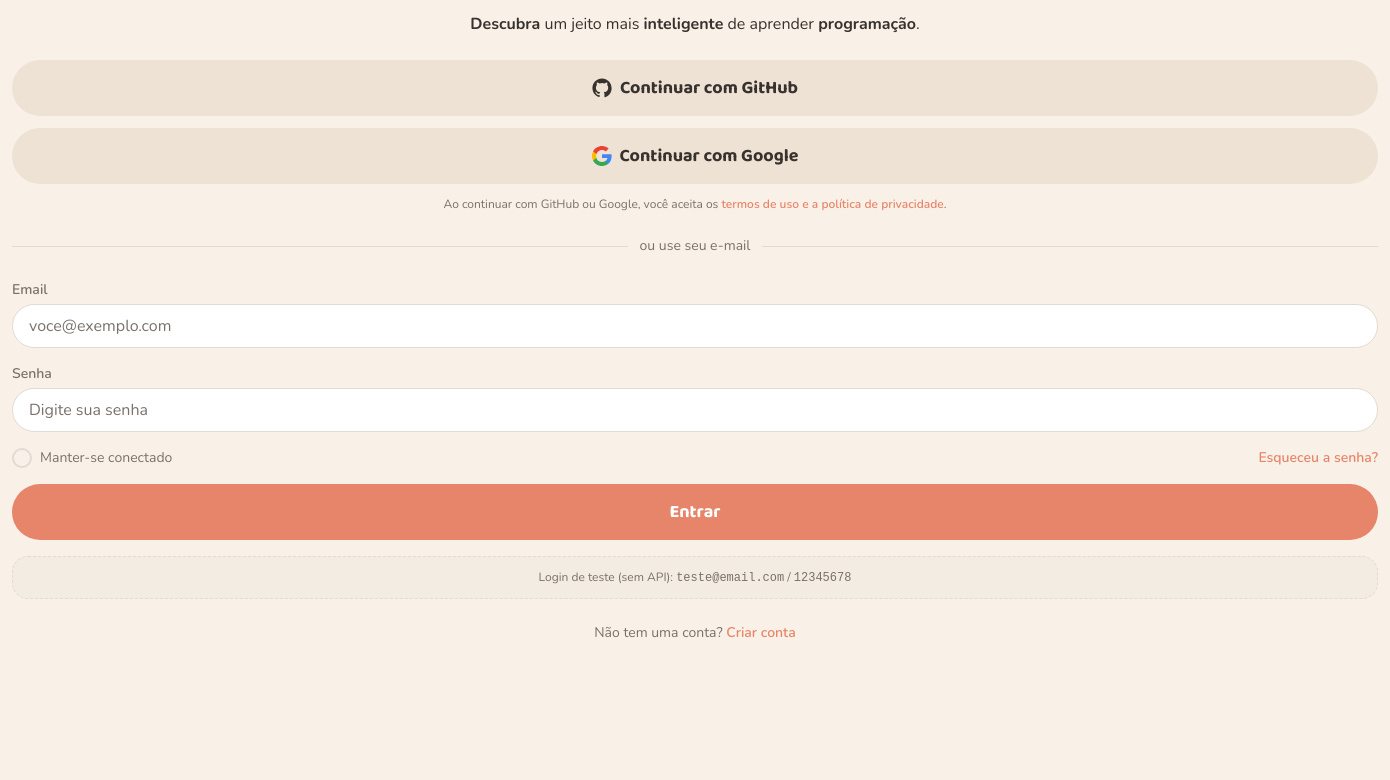
Scenario: envio › mostra a mensagem que a API devolveu
Type "ana@ufrpe.br" into the field labelled "Email". click: (695, 326)
box: [12,304,1378,348]
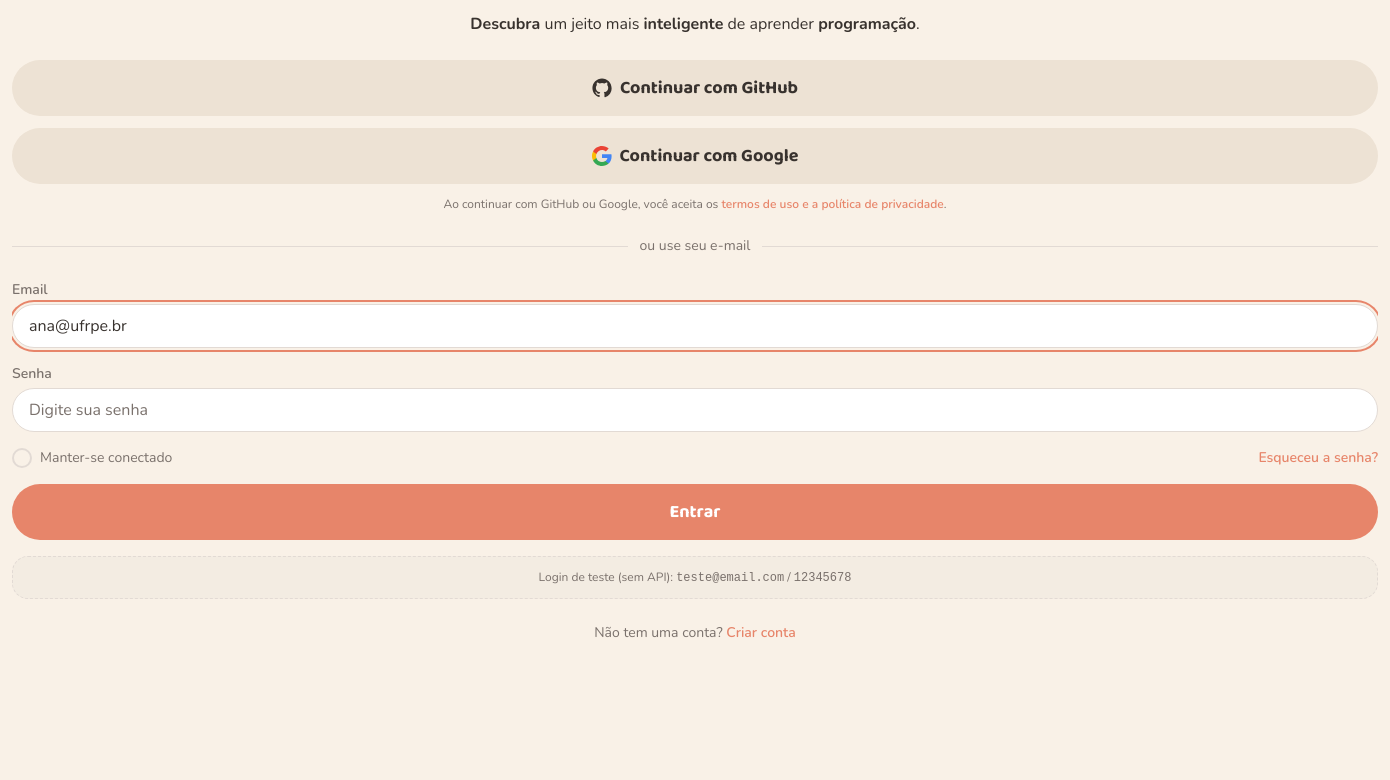
Type "Trilha-Boa-2026" into the password field labelled "Senha". click: (695, 410)
box: [12,388,1378,432]
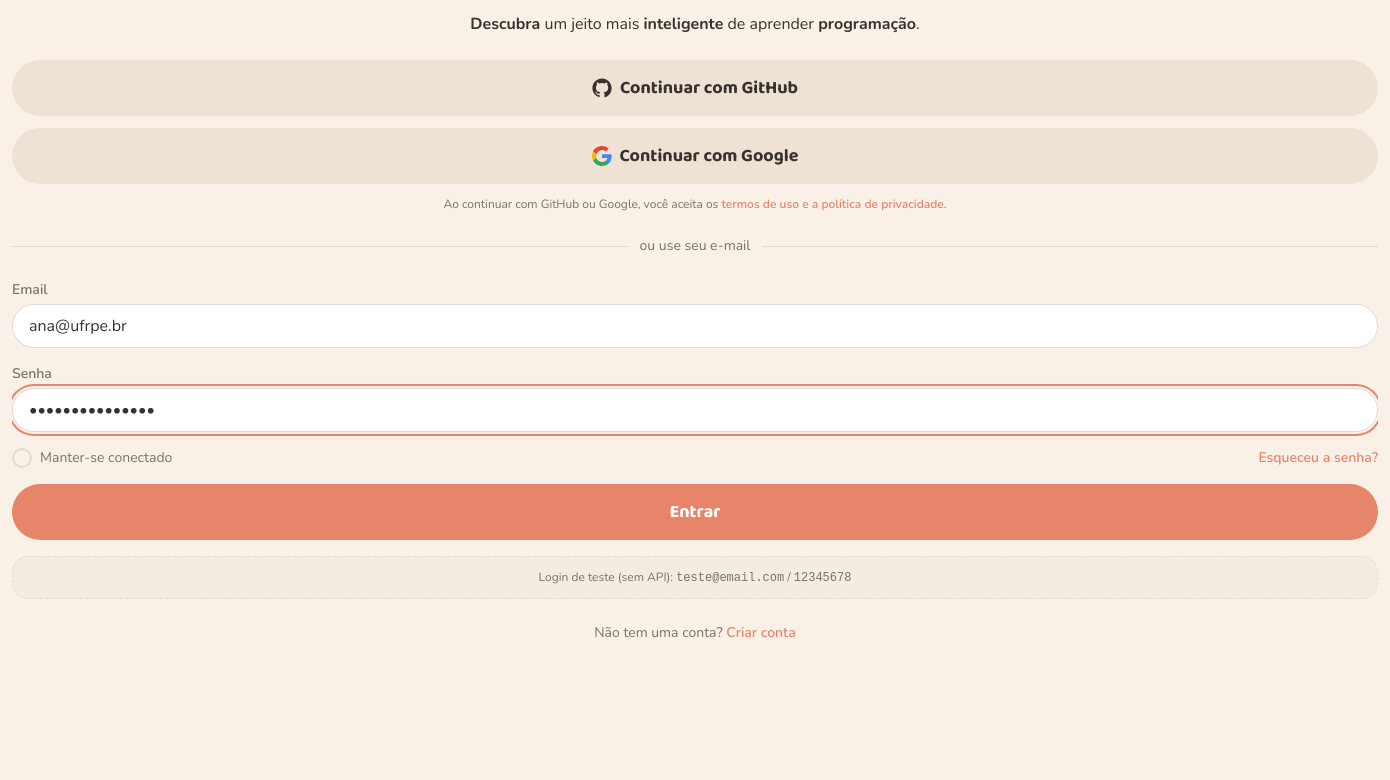
Click the button "Entrar". click: (695, 512)
box: [12,484,1378,540]
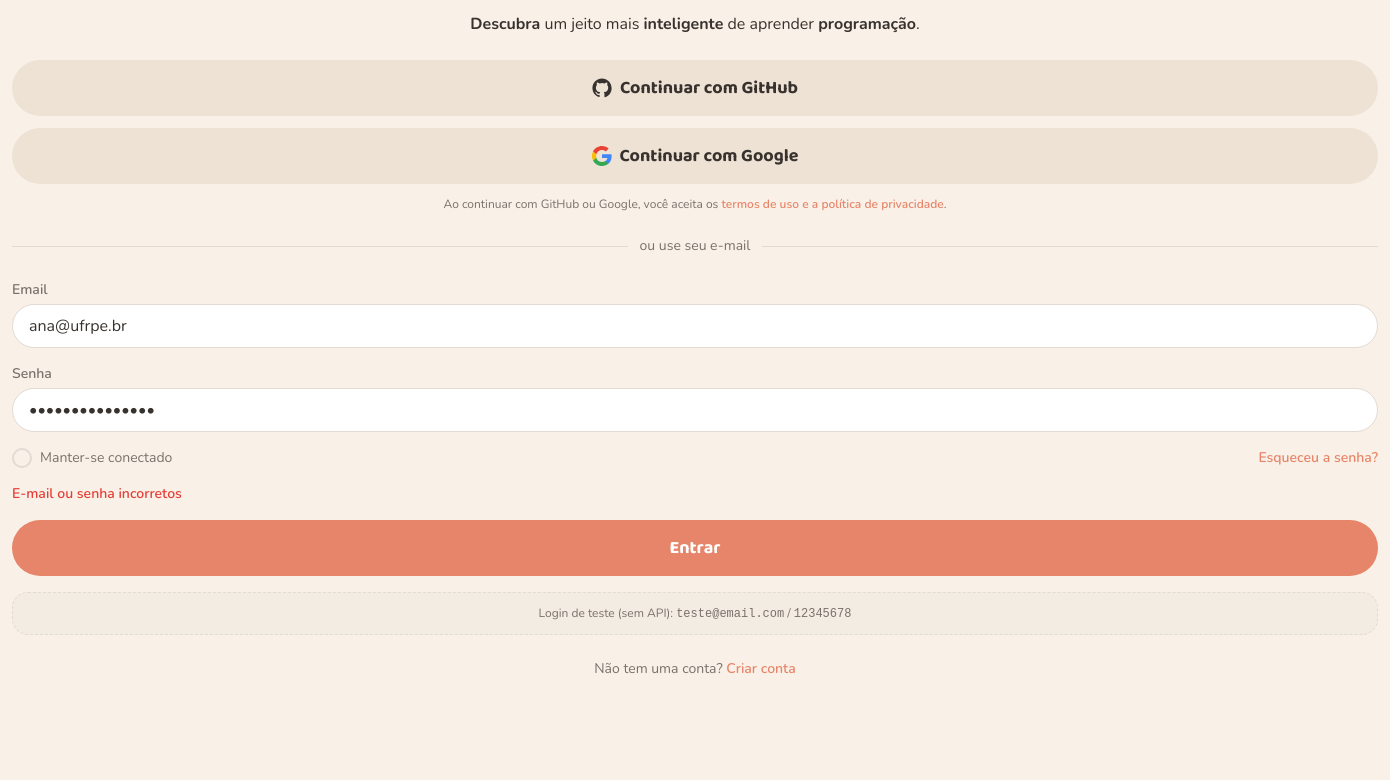
Result: the message reads "E-mail ou senha incorretos" at [12,484,182,503]
